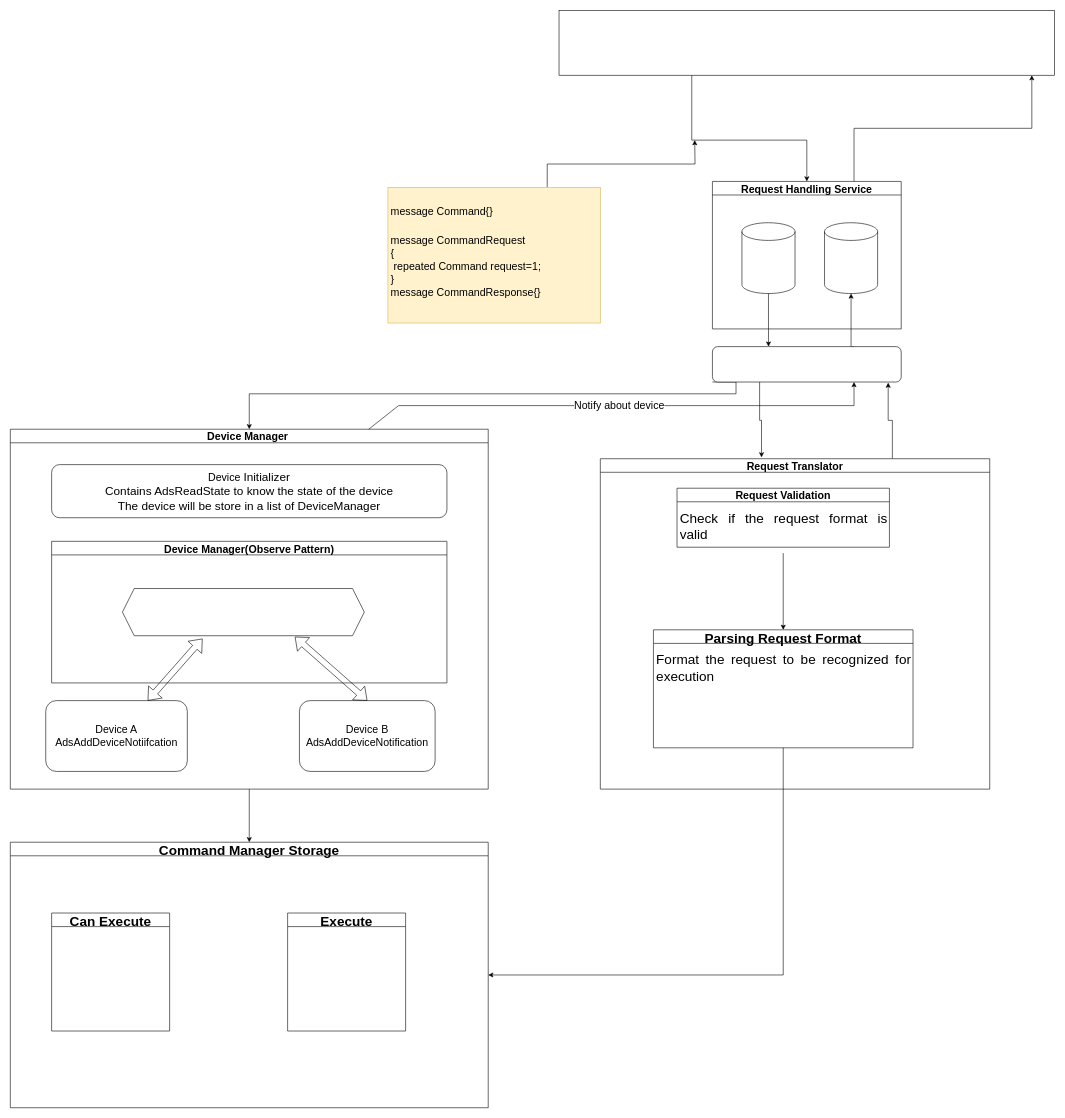
Image size: 1065x1118. Some labels were removed from this diagram. The shapes that lost their labels are listed below. From the top down, each one's centre as x and y in pixels, then its label:
At (x=806, y=42): "Client".
At (x=768, y=258): "Request Buffer".
At (x=851, y=258): "Response Buffer".
At (x=806, y=364): "Request Processor".
At (x=243, y=612): "List of Devices that have been Initialize".
